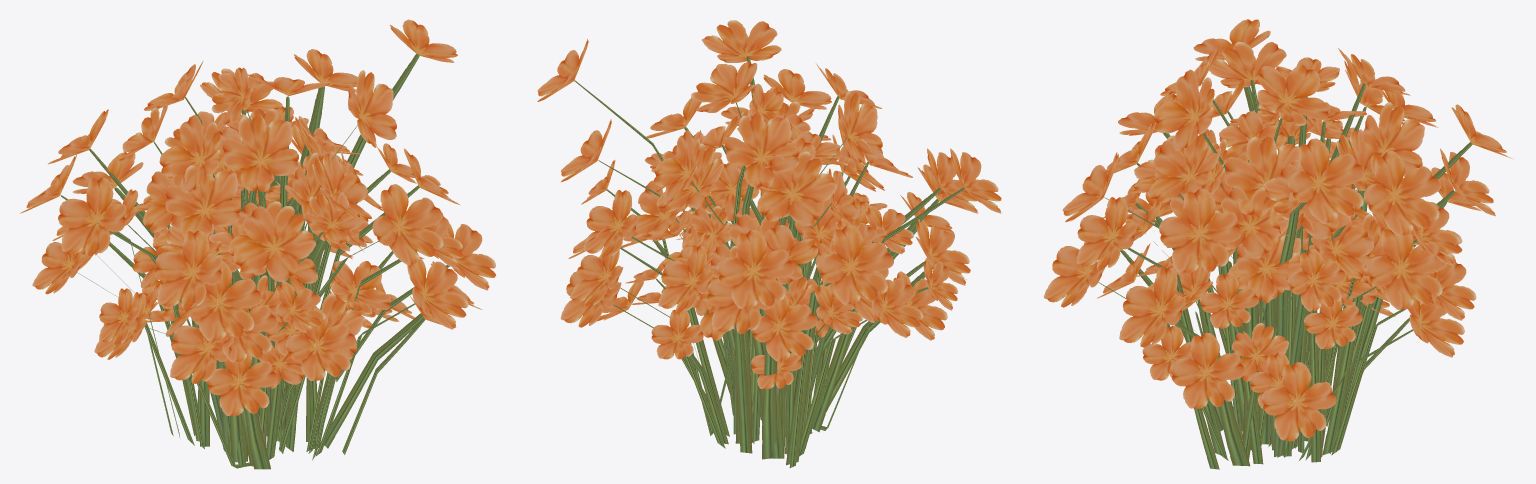
The model's file is SM_Ground_Orange_Flower_C.fbx.
3 renders of one model, left to right at view 1: azimuth 30°, elevation 25°; view 2: azimuth 150°, elevation 25°; view 3: azimuth 270°, elevation 25°, orthographic. The views are drawn at different scales.
Visible parts, largest first — view 1: SM_Ground_Orange_Flower_C_LOD0; view 2: SM_Ground_Orange_Flower_C_LOD0; view 3: SM_Ground_Orange_Flower_C_LOD0.
Part boxes in pixels (left/top/right/bottom): SM_Ground_Orange_Flower_C_LOD0: left=20, top=19, right=496, bottom=469; SM_Ground_Orange_Flower_C_LOD0: left=537, top=20, right=1001, bottom=467; SM_Ground_Orange_Flower_C_LOD0: left=1043, top=19, right=1513, bottom=469.
Bounding box in the file's own units: 33.38 × 30.23 × 28.01.
1 material, 1 textured.
